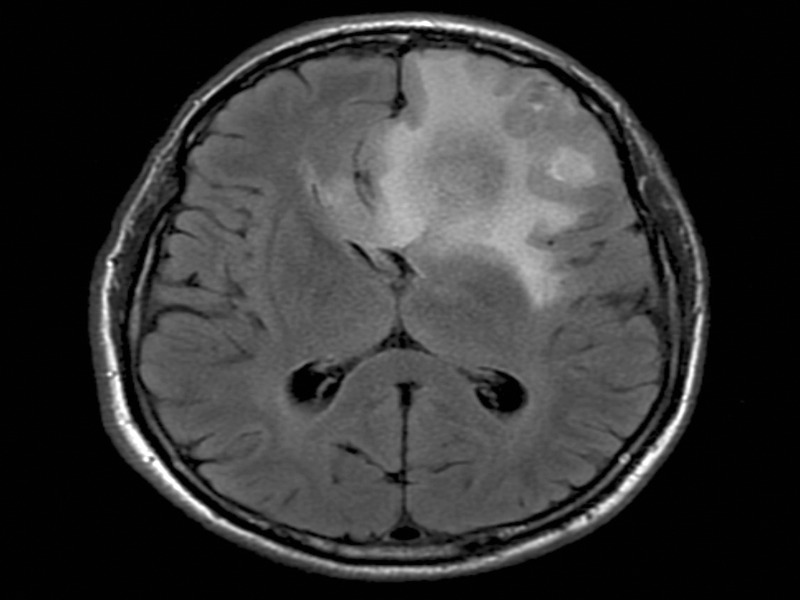tumor: (373, 111, 602, 309)
